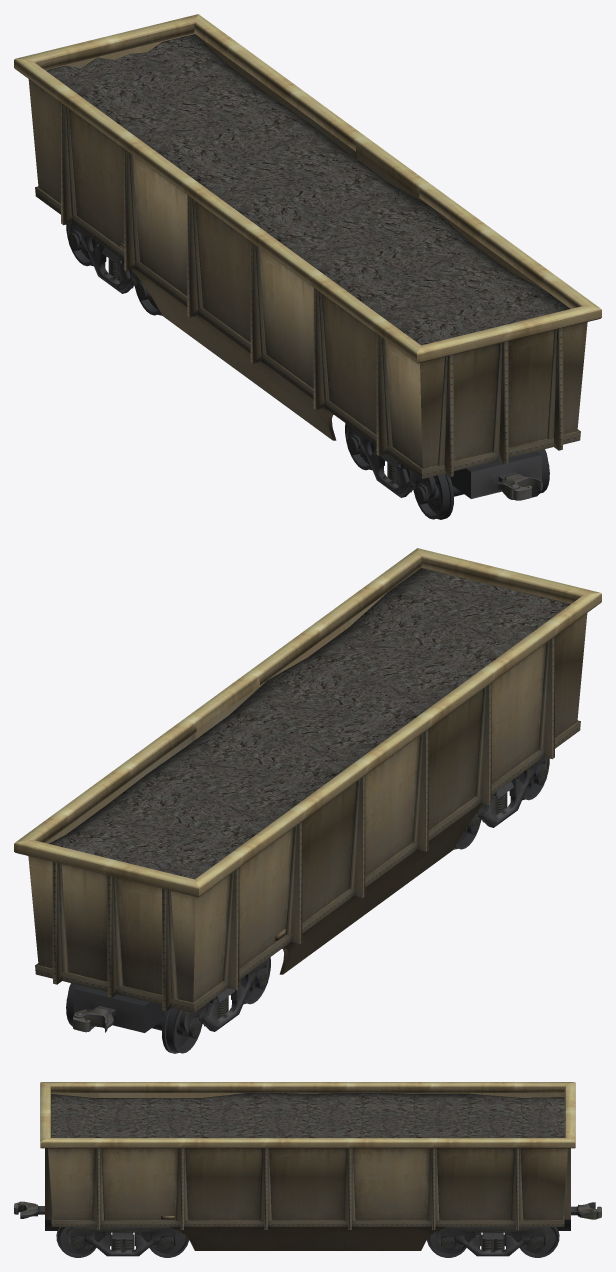
3 views of the same model, one above another, from view 1: azimuth 30°, elevation 25°; view 2: azimuth 150°, elevation 25°; view 3: azimuth 270°, elevation 25° (orthographic). The views are drawn at different scales.
Visible parts, largest first — view 1: Object_train_orecar.jpg; view 2: Object_train_orecar.jpg; view 3: Object_train_orecar.jpg.
Boxes of the visible parts, x1,y1,x2,y2 form: Object_train_orecar.jpg: (14,14,601,519); Object_train_orecar.jpg: (14,548,601,1053); Object_train_orecar.jpg: (14,1082,601,1257).
Size of the model in its own units: 3 by 3.04 by 12.45.
2 materials, 2 textured.
